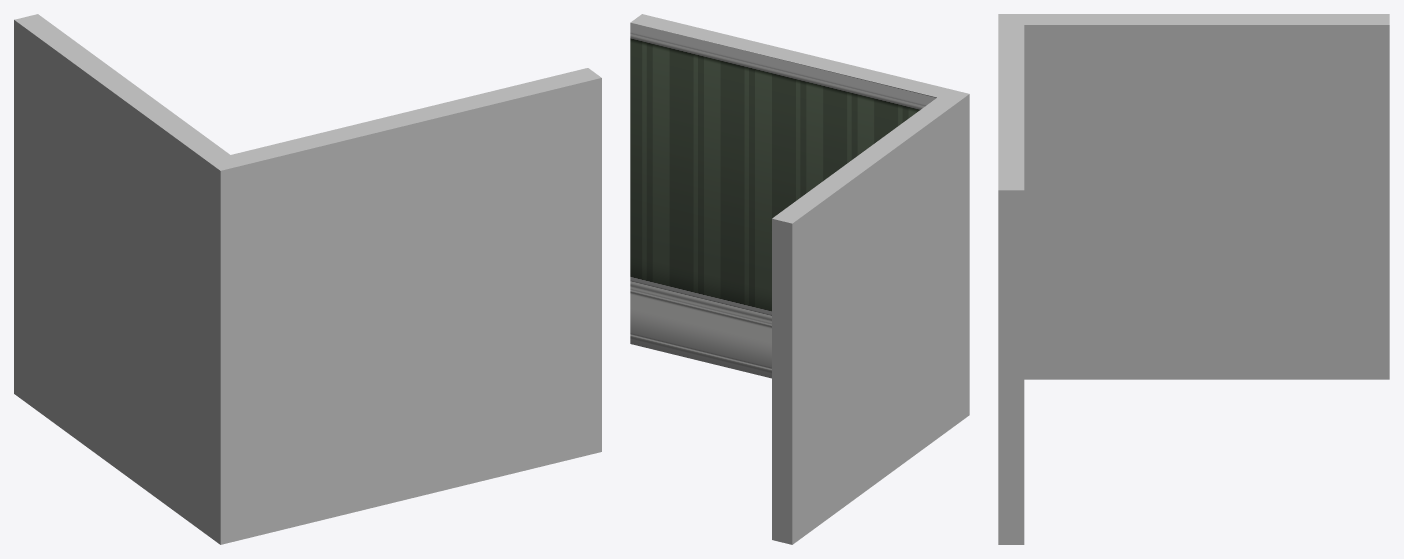
Rendered from wall01_corner_B.fbx.
The picture shows the model from 3 angles, left to right: view 1: azimuth 30°, elevation 25°; view 2: azimuth 150°, elevation 25°; view 3: azimuth 270°, elevation 25°; orthographic projection. The views are drawn at different scales.
Visible parts, largest first — view 1: wall01_corner_B; view 2: wall01_corner_B; view 3: wall01_corner_B.
Boxes of the visible parts, box(x1,y1,x2,y2) form: wall01_corner_B: box(14, 14, 601, 544); wall01_corner_B: box(630, 14, 969, 544); wall01_corner_B: box(998, 14, 1389, 544).
Bounding box in the file's own units: 320 × 300 × 300.
